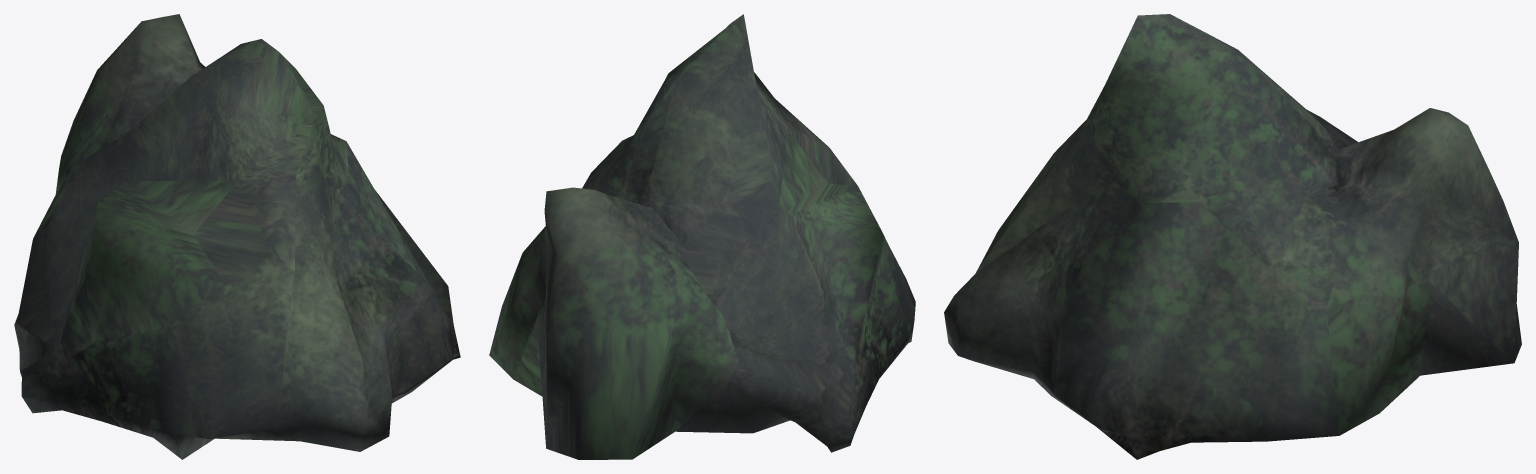
The model's file is L_rock.fbx.
The picture shows the model from 3 angles, left to right: view 1: azimuth 30°, elevation 25°; view 2: azimuth 150°, elevation 25°; view 3: azimuth 270°, elevation 25°; orthographic projection. The views are drawn at different scales.
Parts seen in each view (by area): view 1: rock1_low1; view 2: rock1_low1; view 3: rock1_low1.
Part boxes in pixels (<box>): rock1_low1: <box>14,14,460,459</box>; rock1_low1: <box>489,14,915,459</box>; rock1_low1: <box>944,14,1521,459</box>.
Bounding box in the file's own units: 0.0441 × 0.0415 × 0.0581.
Materials: 1 (1 with a texture image).
